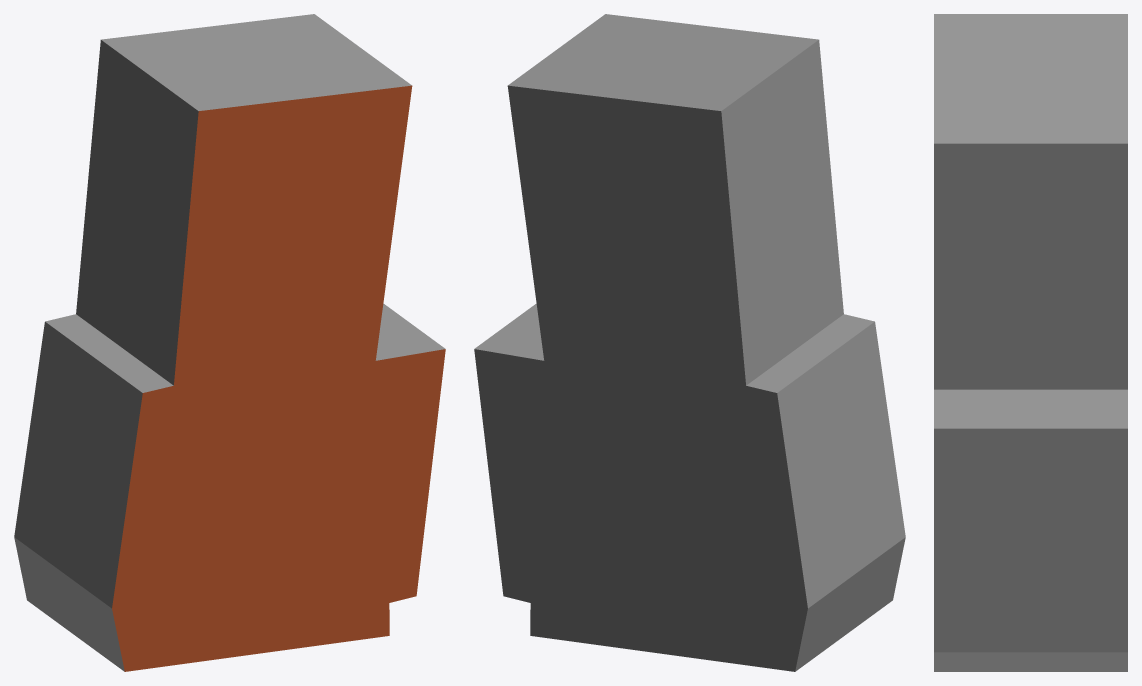
Rendered from construction_5800_assumed_A_Casa_h6m.obj.
3 renders of one model, left to right at view 1: azimuth 30°, elevation 25°; view 2: azimuth 150°, elevation 25°; view 3: azimuth 270°, elevation 25°, orthographic.
Visible parts, largest first — view 1: construction_5800_assumed_A_Casa; view 2: construction_5800_assumed_A_Casa; view 3: construction_5800_assumed_A_Casa.
Boxes of the visible parts, x1=… form: construction_5800_assumed_A_Casa: x1=14, y1=14, x2=445, y2=671; construction_5800_assumed_A_Casa: x1=474, y1=14, x2=905, y2=671; construction_5800_assumed_A_Casa: x1=934, y1=14, x2=1127, y2=671.
Bounding box in the file's own units: 11.82 × 19.33 × 6.
